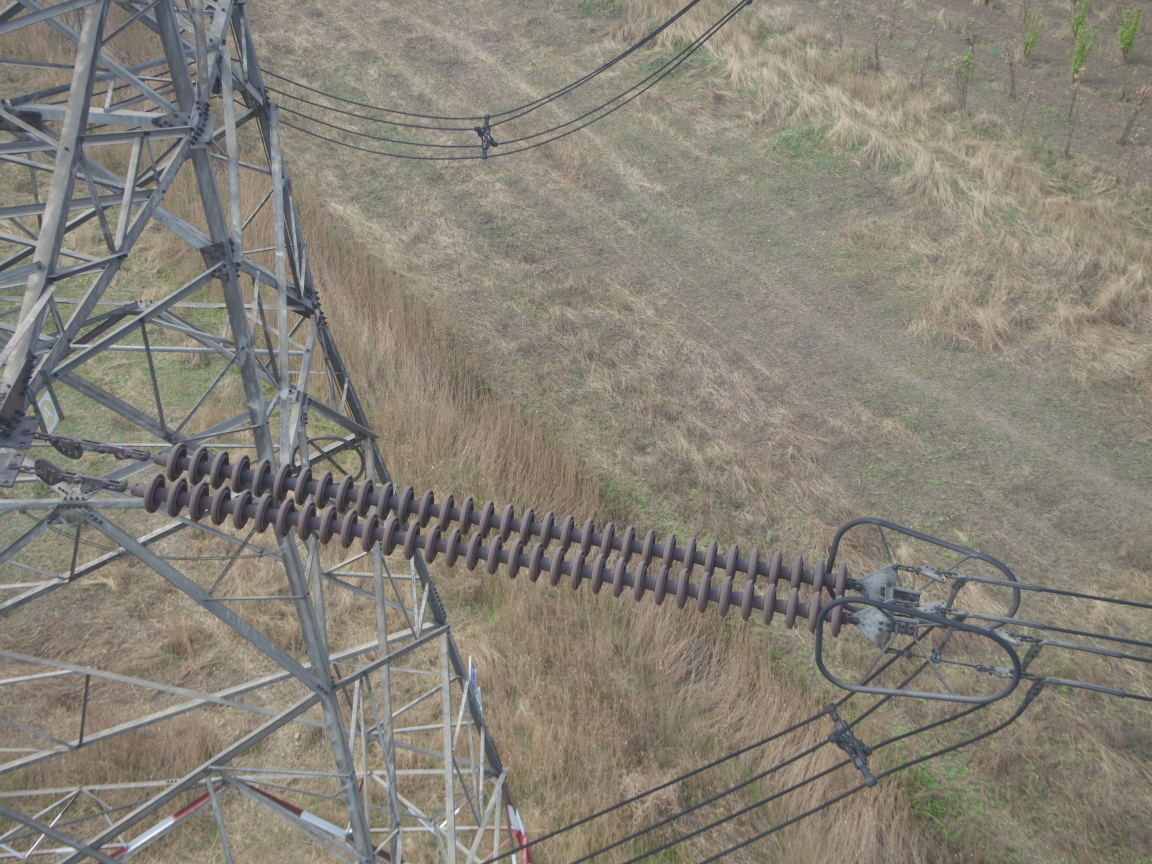insulator: (82, 431, 865, 639)
